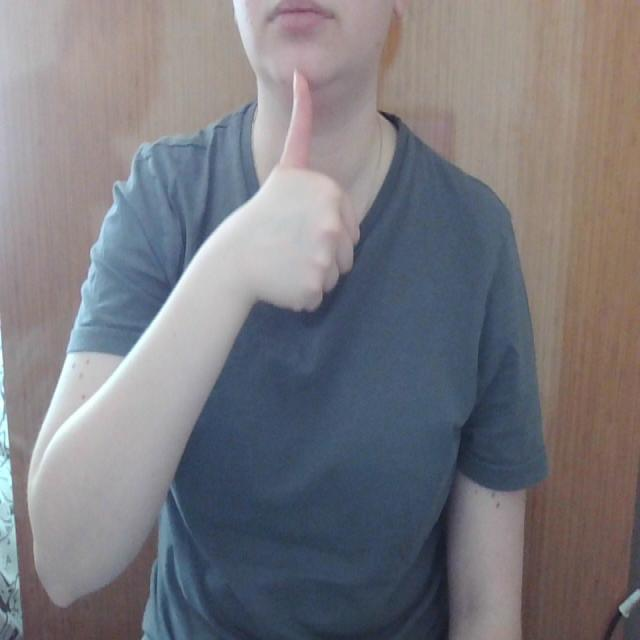Baba: (260, 0, 346, 151)
